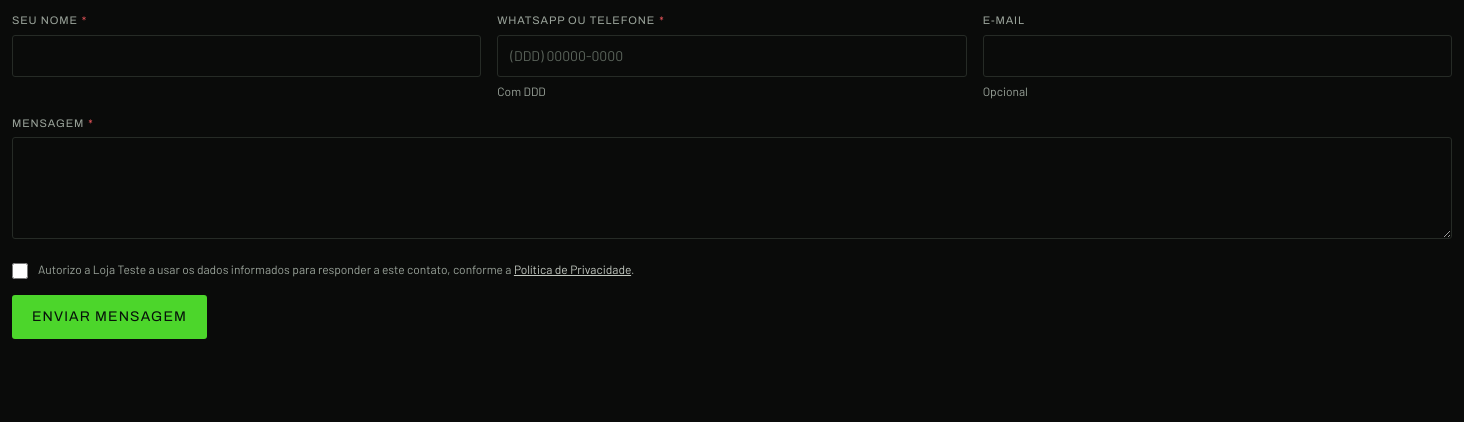
Test: formulários de lead › ContactForm › erro da API aparece na tela, com o detalhe dos campos
Type "Maria Silva" into the field labelled "Seu nome*" at (247, 56), box [12,34,481,76]
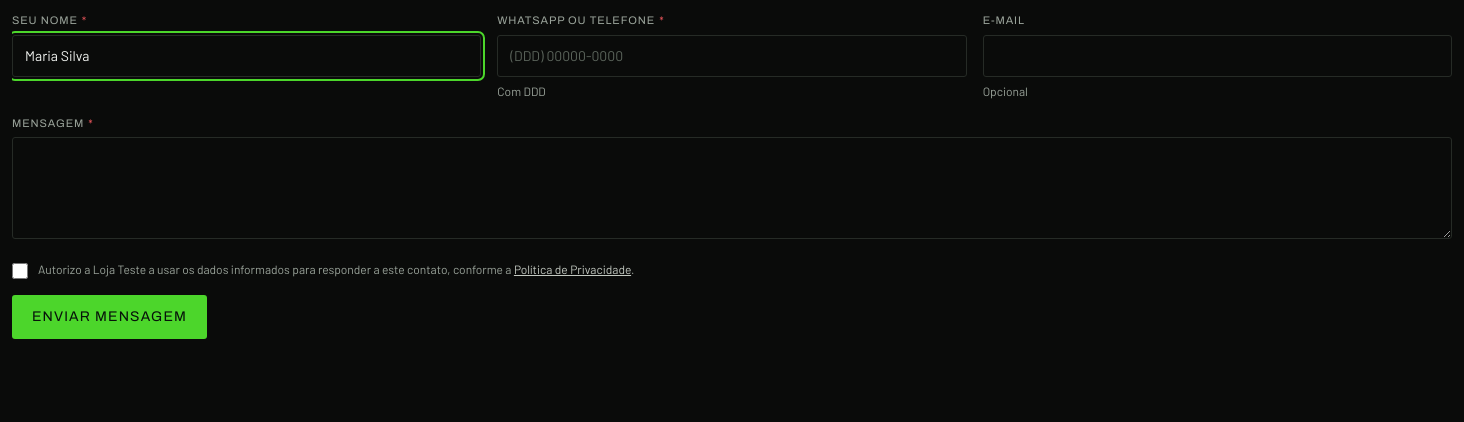
Type "49 99999-8888" into the field labelled "WhatsApp ou telefone*" at (732, 56), box [497,34,967,76]
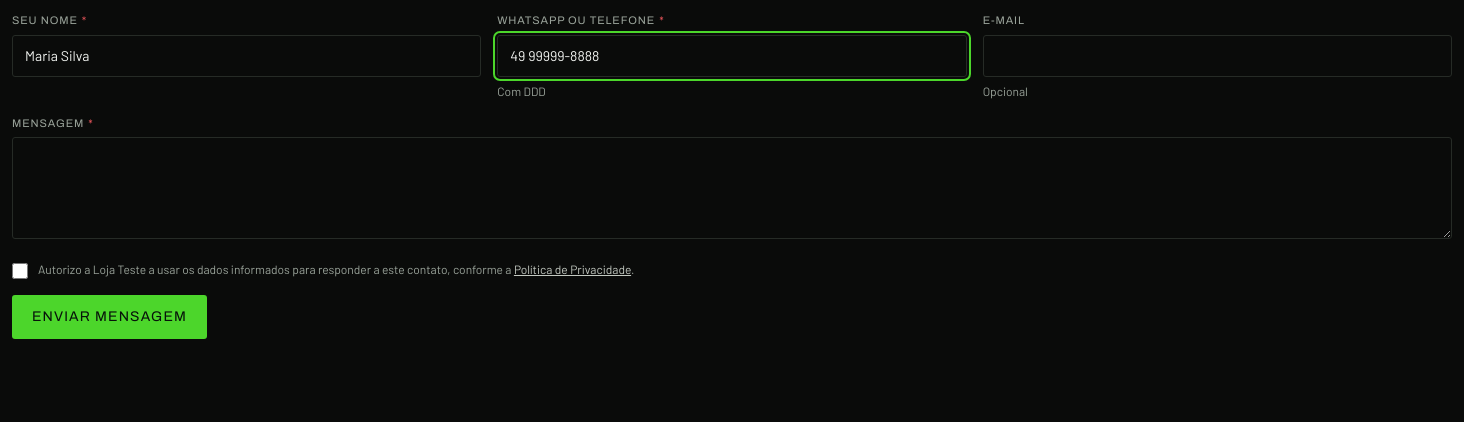
Type "Oi, tudo bem?" into the text box labelled "Mensagem*" at (732, 188), box [12,137,1452,239]
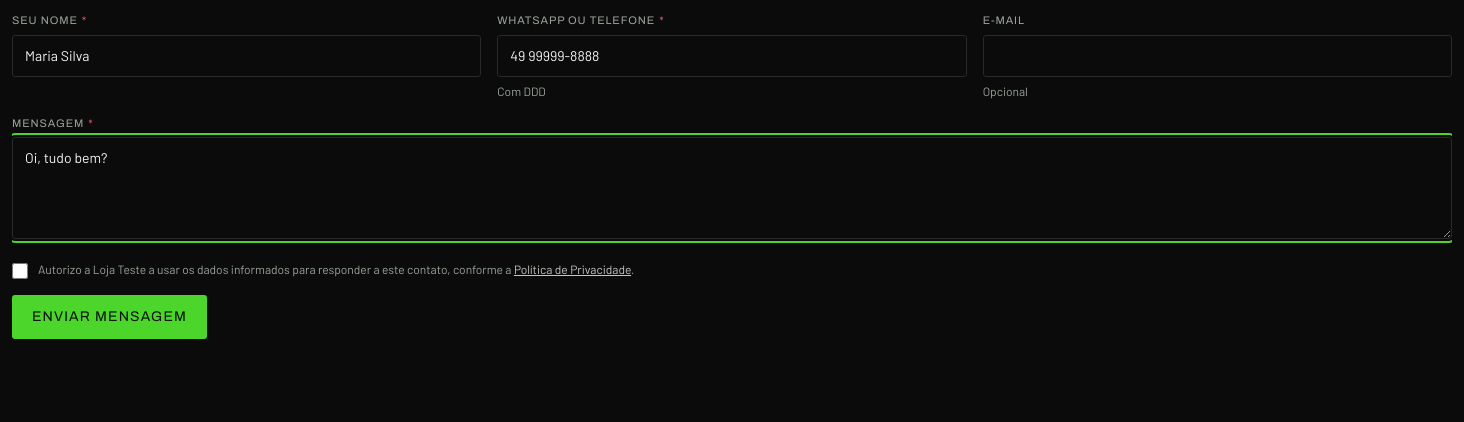
Click the checkbox labelled "Autorizo" at (20, 271), box [12,263,28,279]
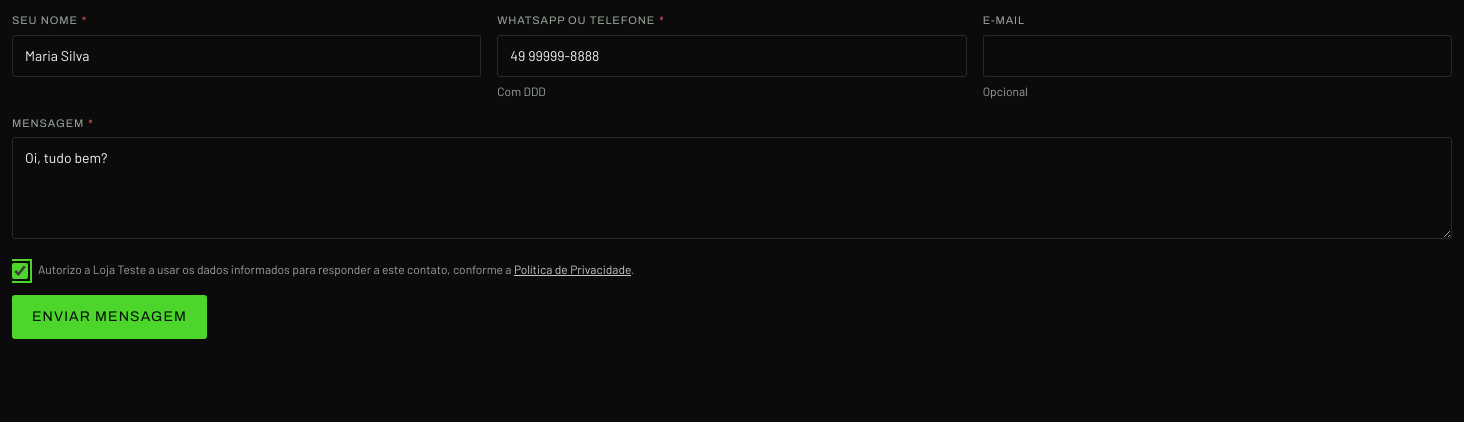
Click the button "Enviar mensagem" at (110, 317), box [12,295,207,339]
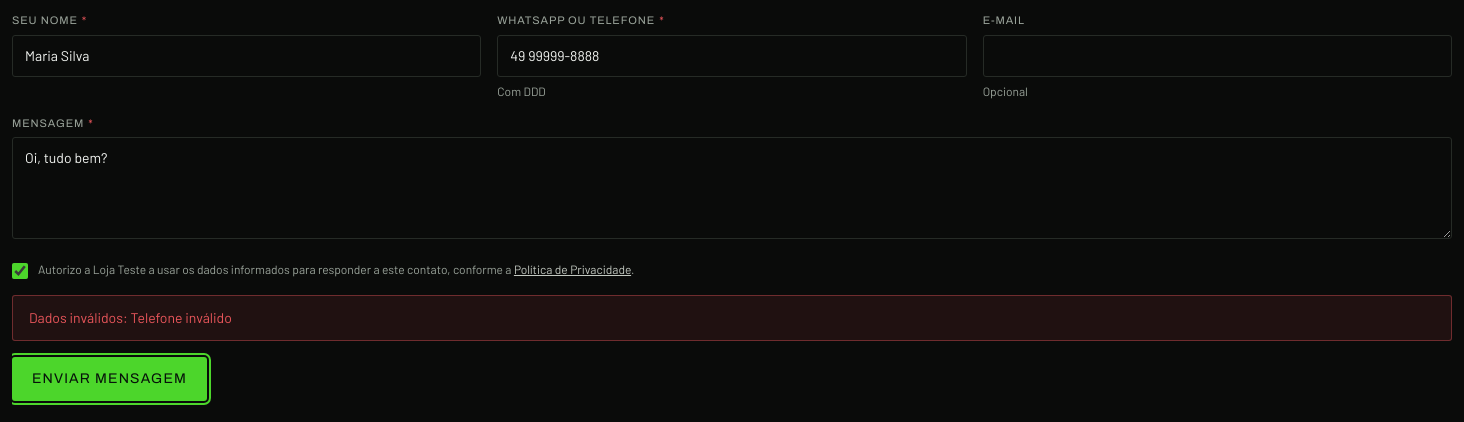
Result: the text "Dados inválidos: Telefone inválido" is shown at [12,295,1452,341]
